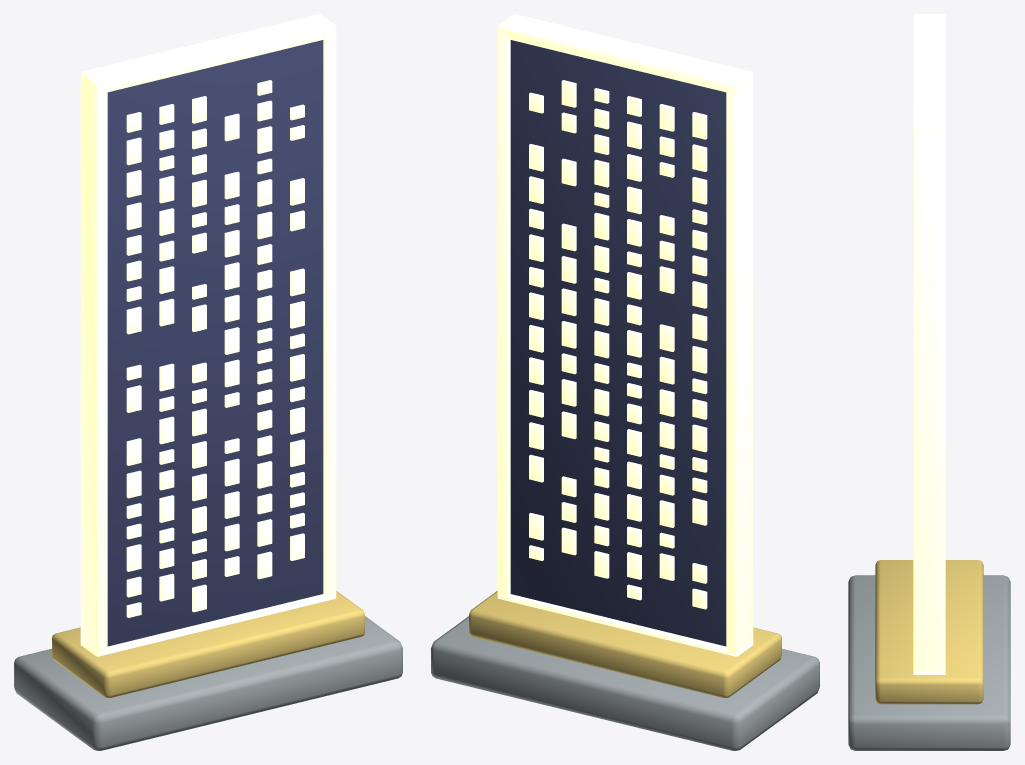
Rendered from star_stele.glb.
3 views of the same model, side by side, from view 1: azimuth 30°, elevation 25°; view 2: azimuth 150°, elevation 25°; view 3: azimuth 270°, elevation 25° (orthographic). The views are drawn at different scales.
Parts seen in each view (by area): view 1: Slab, Plinth, Frame, Plinth2, Frame.001, Frame.003, Frame.002; view 2: Slab, Plinth, Frame, Plinth2, Frame.001, Frame.003, Frame.002; view 3: Frame.001, Plinth, Plinth2, Frame.003.
Part boxes in pixels (x1,y1,x2,y2): Slab: (107,40,323,646); Plinth: (14,616,402,750); Frame: (80,78,107,656); Plinth2: (52,591,364,698); Frame.001: (323,31,336,600); Frame.003: (80,14,336,93); Frame.002: (81,594,336,656); Slab: (510,40,726,646); Plinth: (431,616,819,750); Frame: (726,78,753,656); Plinth2: (469,591,781,698); Frame.001: (497,31,510,600); Frame.003: (497,14,753,93); Frame.002: (497,594,753,656); Frame.001: (913,131,945,670); Plinth: (848,575,1010,750); Plinth2: (875,560,983,704); Frame.003: (913,14,945,135).
Bounding box in the file's own units: 1.9 × 3.74 × 0.9.
